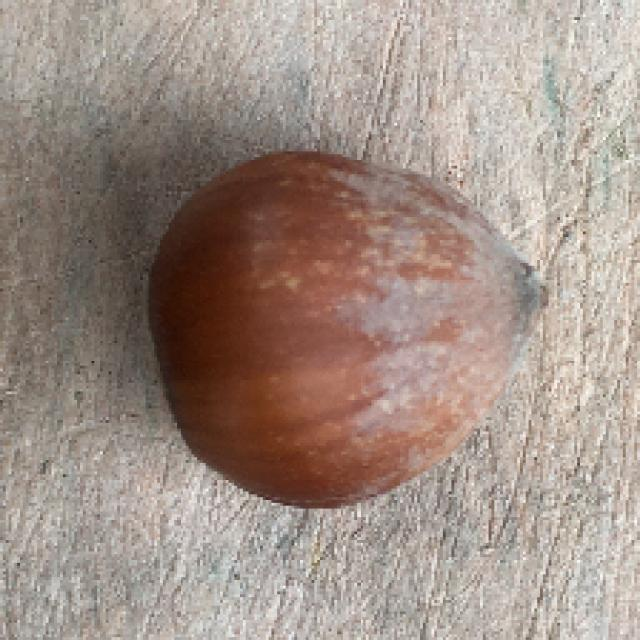qualityHazelnut: (149, 147, 556, 509)
